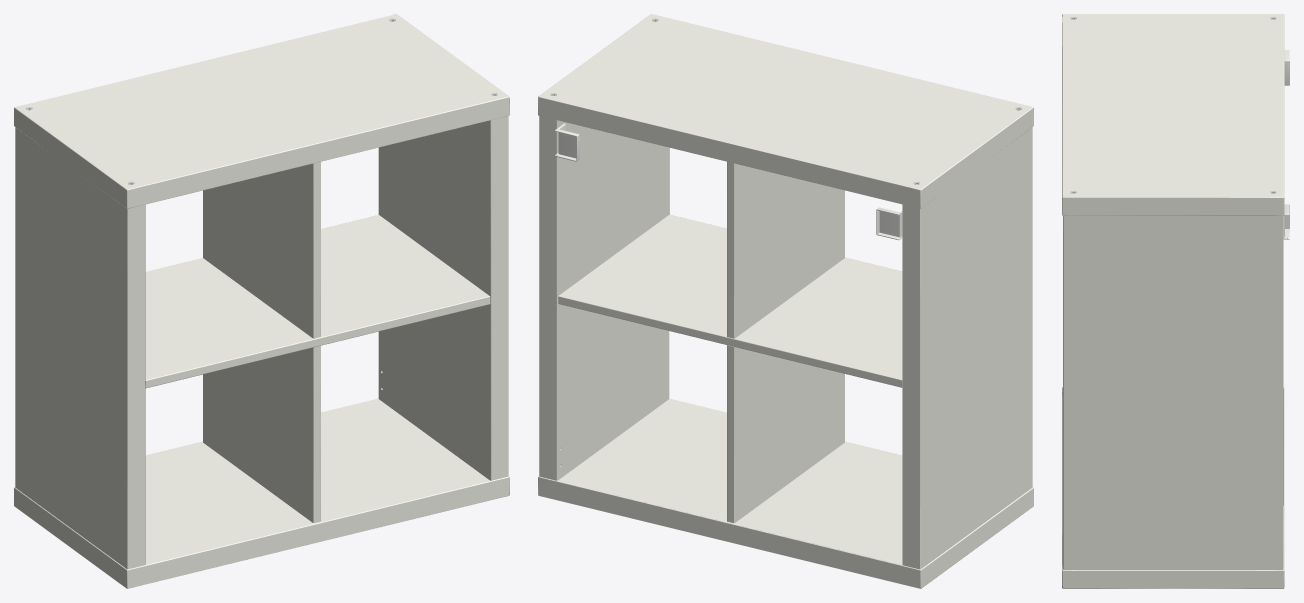
Rendered from KALLAX_60275812.glb.
3 renders of one model, left to right at view 1: azimuth 30°, elevation 25°; view 2: azimuth 150°, elevation 25°; view 3: azimuth 270°, elevation 25°, orthographic.
Visible parts, largest first — view 1: model; view 2: model; view 3: model.
Part boxes in pixels (<box>): model: <box>14,14,509,588</box>; model: <box>538,14,1033,588</box>; model: <box>1062,14,1289,588</box>.
Size of the model in its own units: 0.765 by 0.7655 by 0.4012.
Materials: 1 (1 with a texture image).
